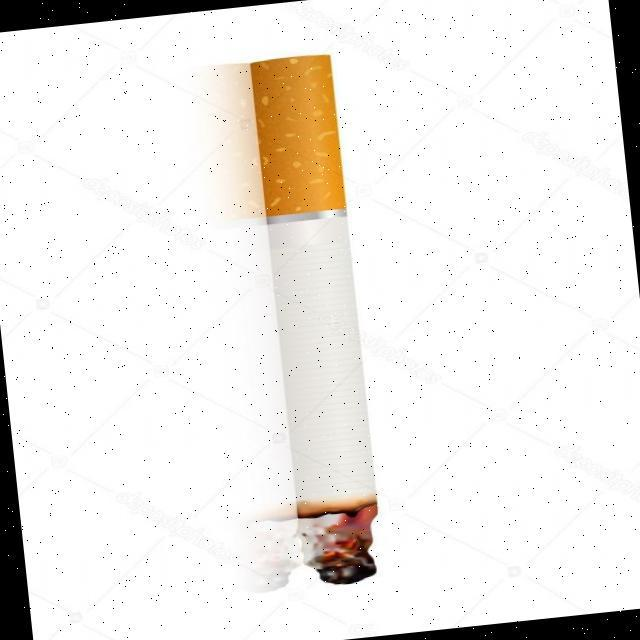cigarette: (240, 53, 394, 591)
